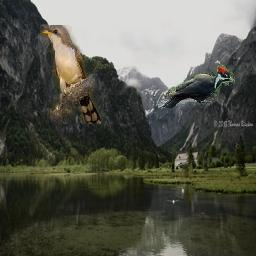Cuckoo: (41, 26, 102, 125)
Woodpecker: (159, 66, 236, 109)
